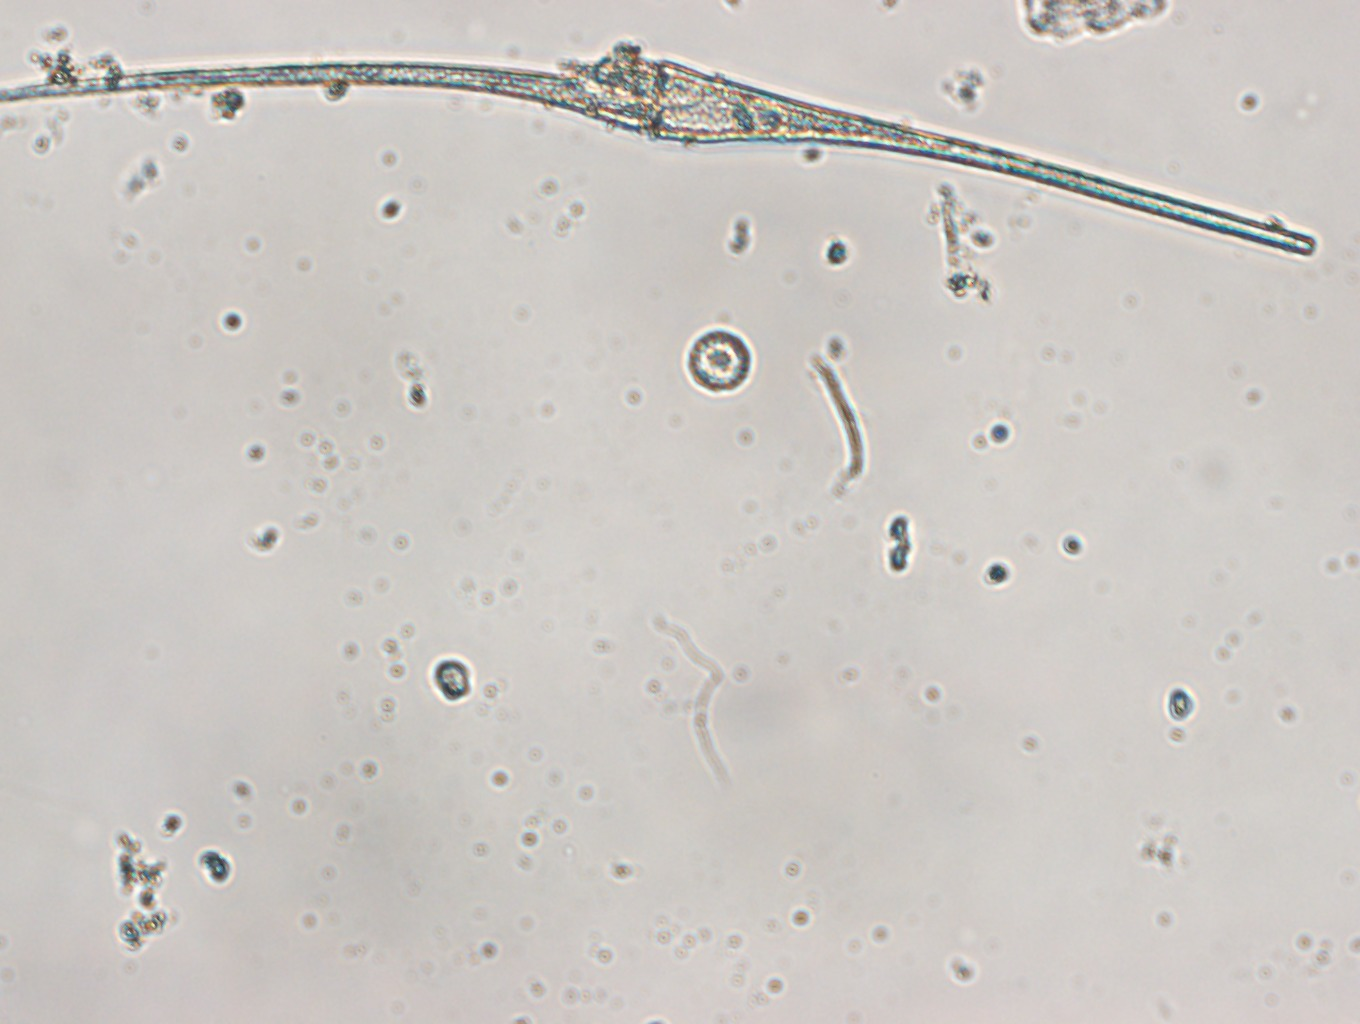ceratium fusus: (1, 56, 1317, 260)
